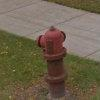Hydrant: (24, 15, 93, 100)
